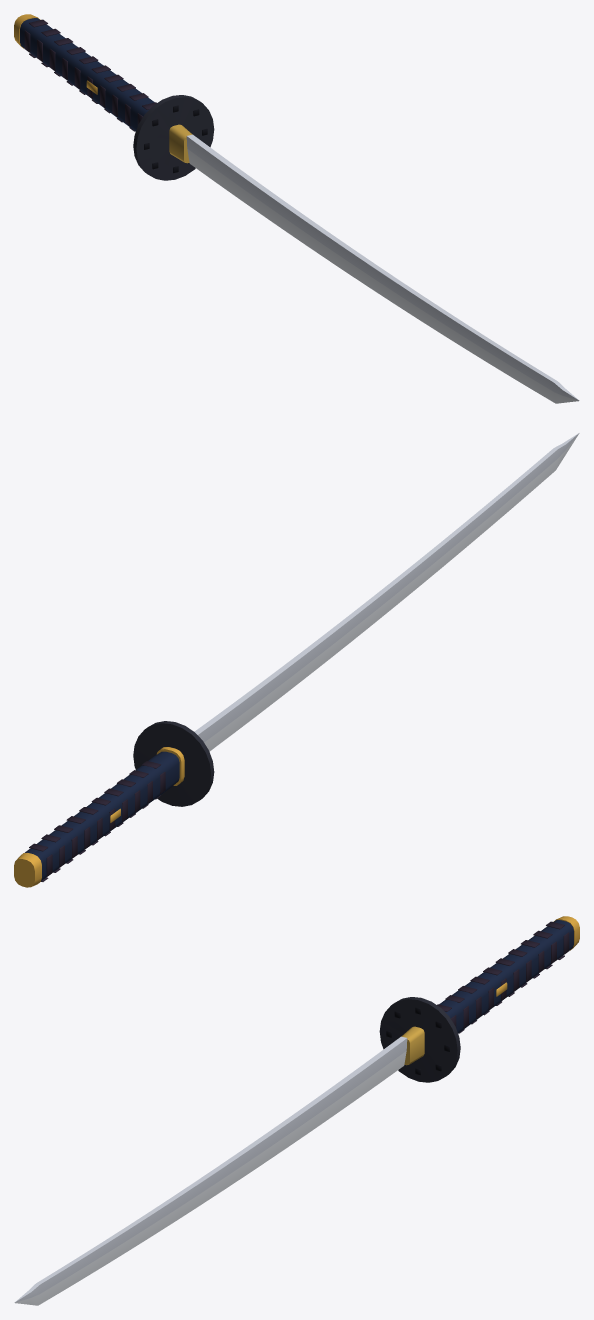
Rendered from katana.fbx.
3 renders of one model, top to bottom at view 1: azimuth 30°, elevation 25°; view 2: azimuth 150°, elevation 25°; view 3: azimuth 330°, elevation 25°, orthographic.
Visible parts, largest first — view 1: Body.002; view 2: Body.002; view 3: Body.002.
Boxes of the visible parts, x1,y1,x2,y2 form: Body.002: (14, 14, 579, 403); Body.002: (14, 433, 579, 887); Body.002: (14, 916, 579, 1305).
Bounding box in the file's own units: 8.6 × 8.6 × 106.
